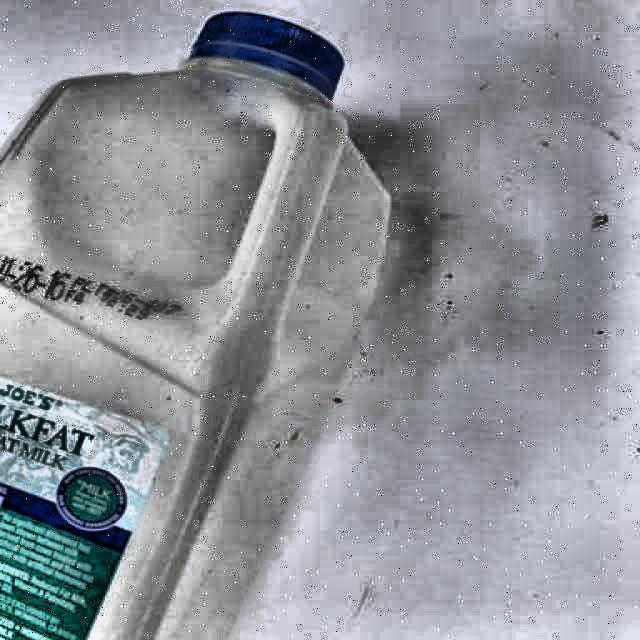plastic: (0, 11, 389, 640)
